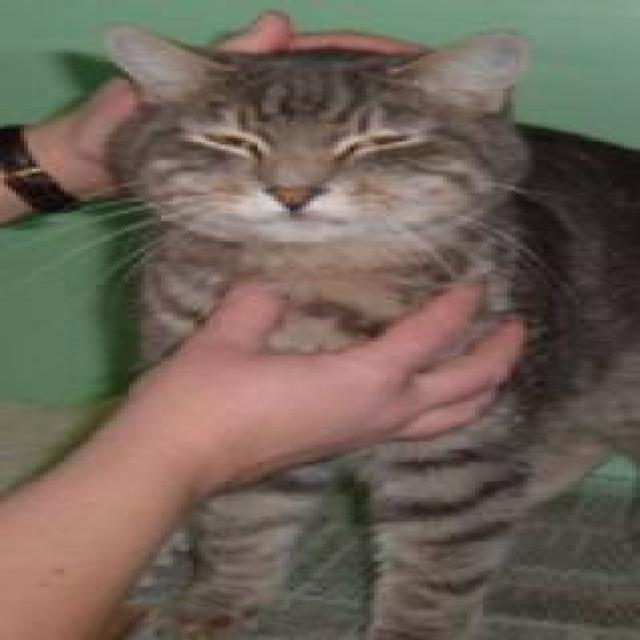cat: (93, 11, 636, 638)
